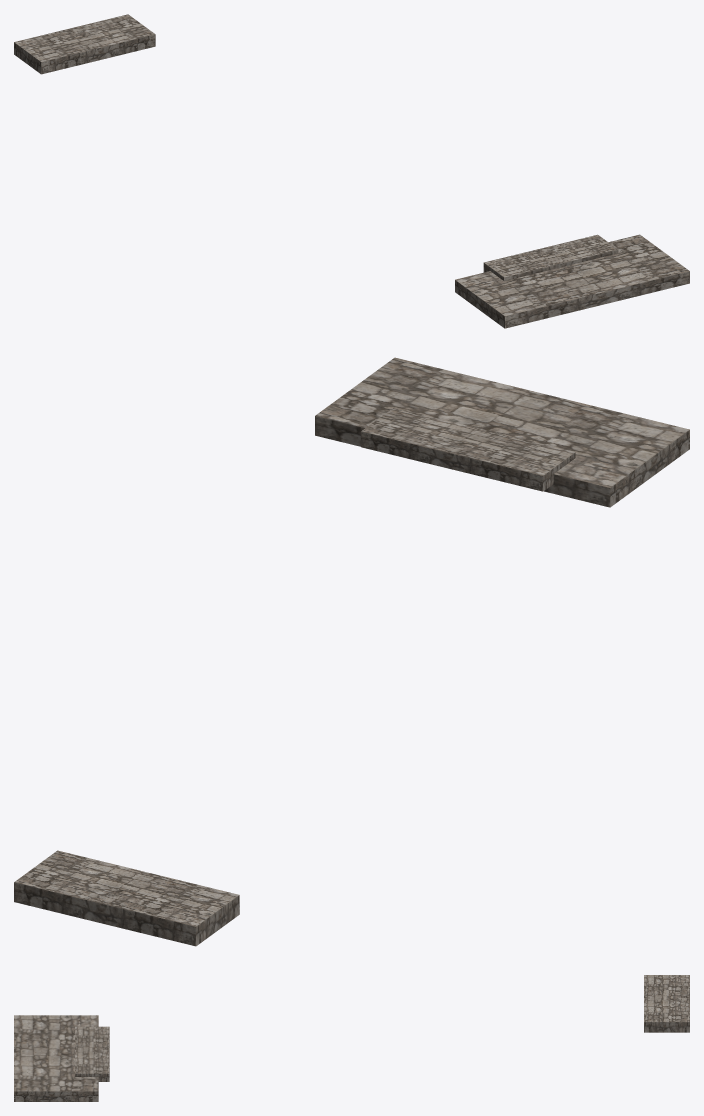
File: BW_FamilyCottageB01_Steps.fbx
The picture shows the model from 3 angles, top to bottom: view 1: azimuth 30°, elevation 25°; view 2: azimuth 150°, elevation 25°; view 3: azimuth 270°, elevation 25°; orthographic projection. The views are drawn at different scales.
Visible parts, largest first — view 1: BW_FamilyCottageB01_Steps; view 2: BW_FamilyCottageB01_Steps; view 3: BW_FamilyCottageB01_Steps.
Boxes of the visible parts, bbox=[...] form: BW_FamilyCottageB01_Steps: bbox=[14, 14, 689, 328]; BW_FamilyCottageB01_Steps: bbox=[14, 357, 689, 946]; BW_FamilyCottageB01_Steps: bbox=[14, 975, 689, 1101].
Bounding box in the file's own units: 3.5 × 0.195 × 8.8.
